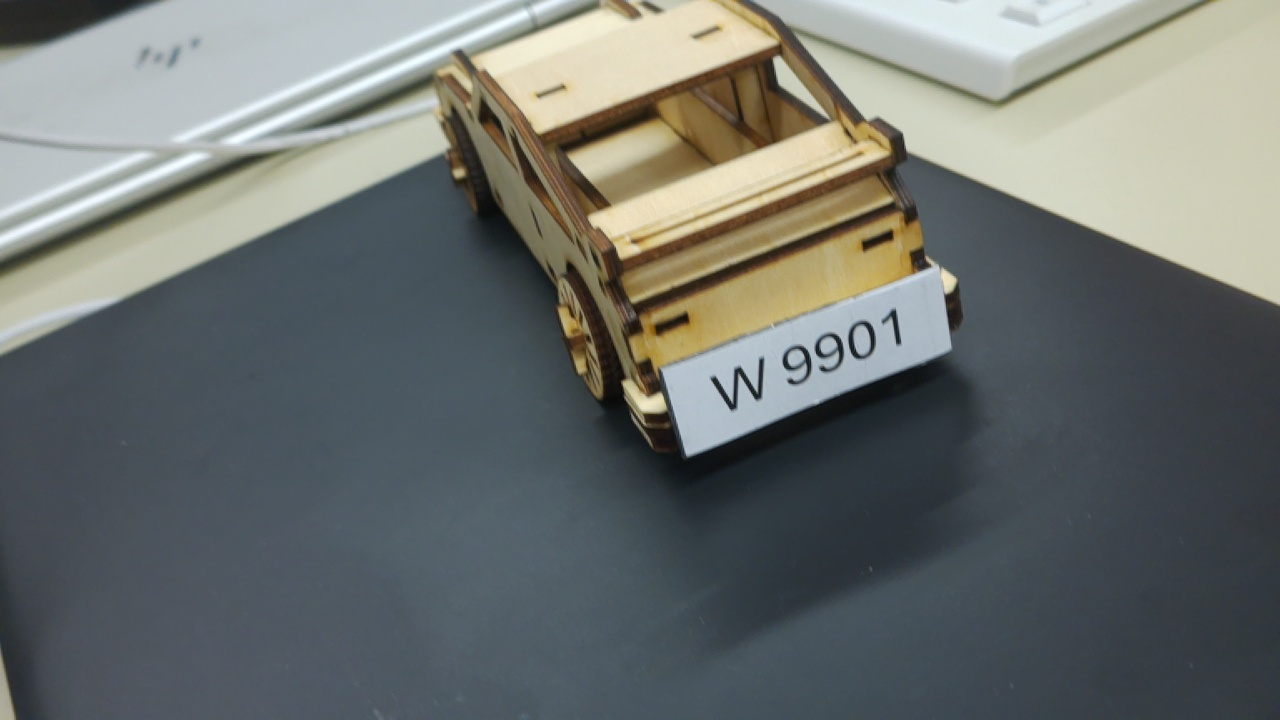license_plate: (648, 262, 957, 473)
